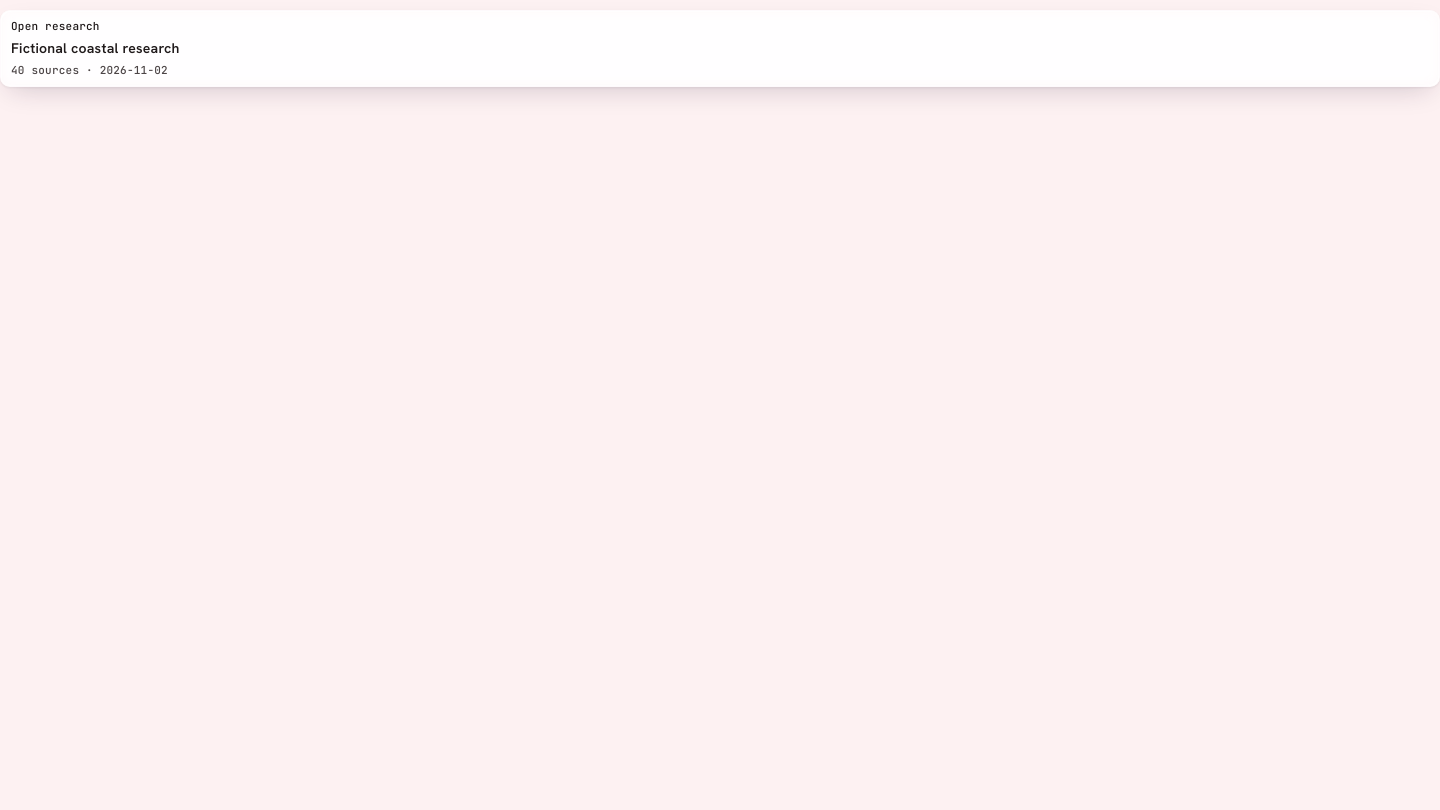
Scenario: a completed workspace report without a structured brief opens directly to its full content
Click the button with aria-label "Open research: Fictional coastal research" at (55, 26), box [0,10,1439,87]
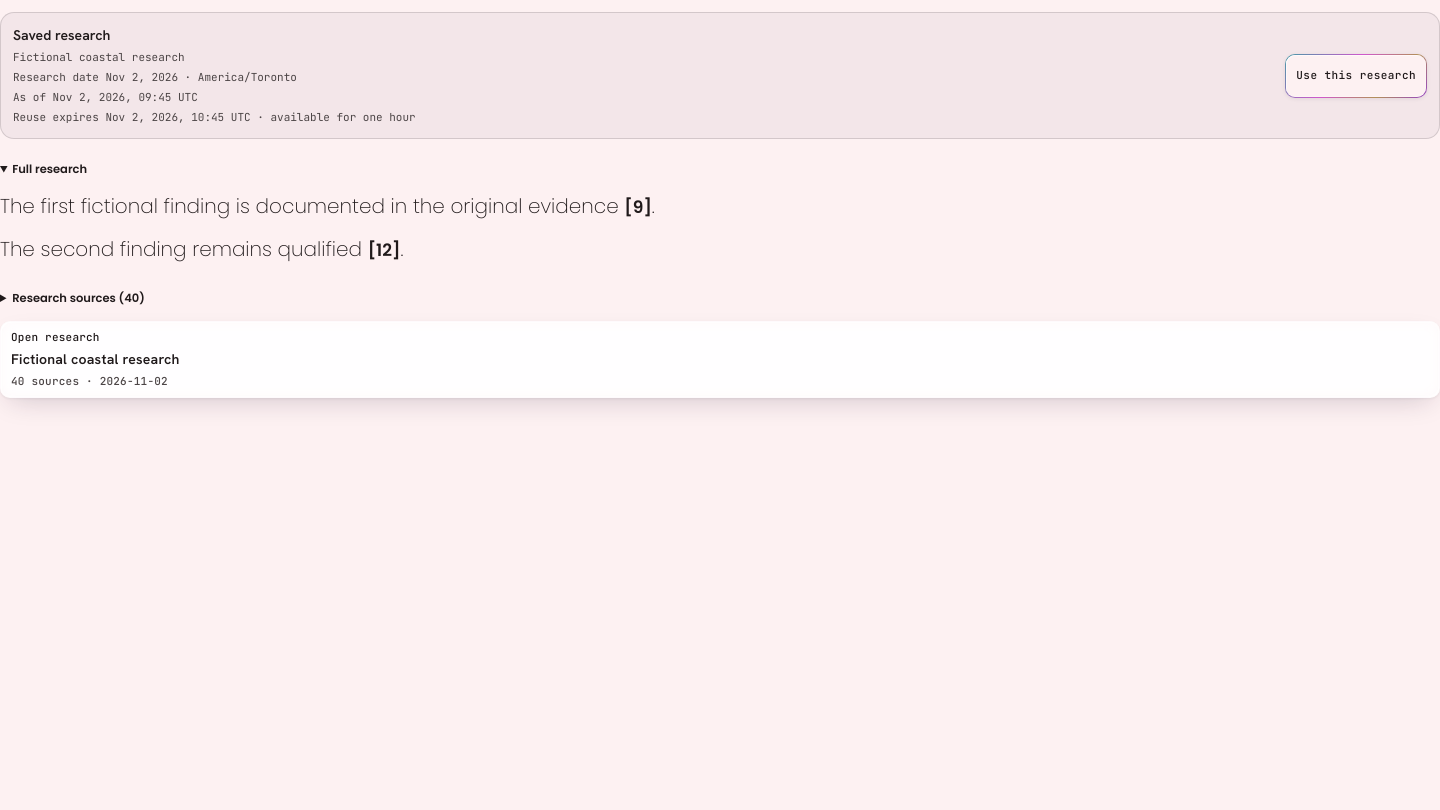
Expected: the element named "Completed research" shows "The second finding remains qualified", [0,235,368,263]
